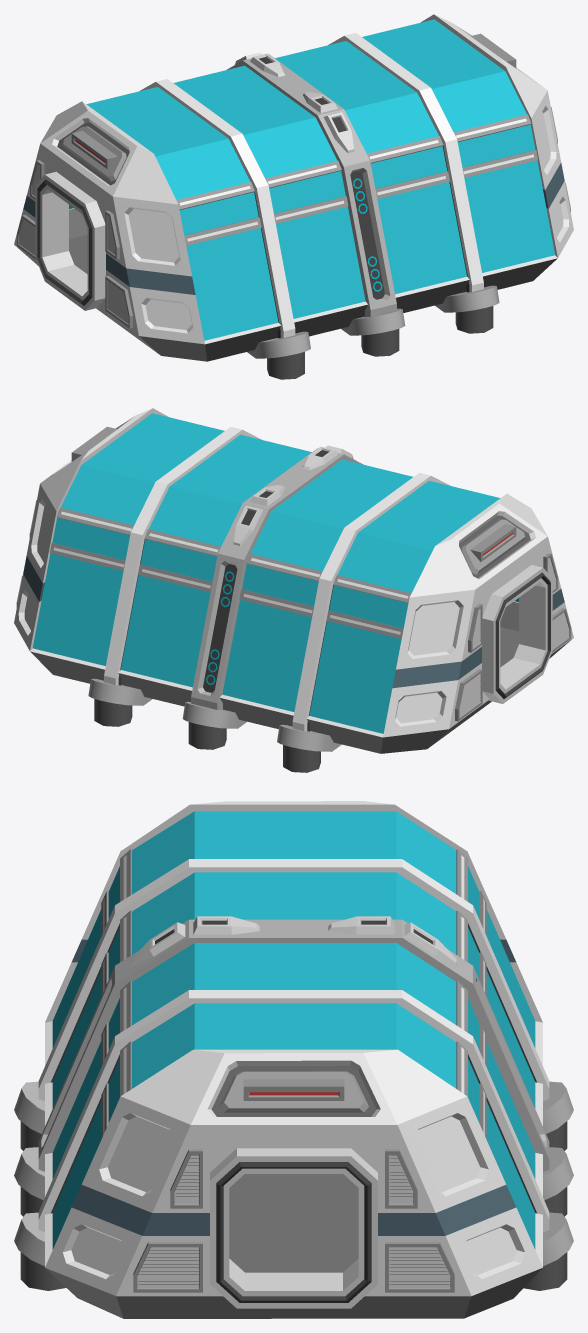
Rendered from section_011.fbx.
3 renders of one model, top to bottom at view 1: azimuth 30°, elevation 25°; view 2: azimuth 150°, elevation 25°; view 3: azimuth 270°, elevation 25°, orthographic. The views are drawn at different scales.
Parts seen in each view (by area): view 1: section_011; view 2: section_011; view 3: section_011.
Part boxes in pixels (left/top/right/bottom): section_011: left=14, top=14, right=573, bottom=379; section_011: left=14, top=408, right=573, bottom=772; section_011: left=14, top=801, right=573, bottom=1318.
Size of the model in its own units: 1470 by 1085 by 625.
